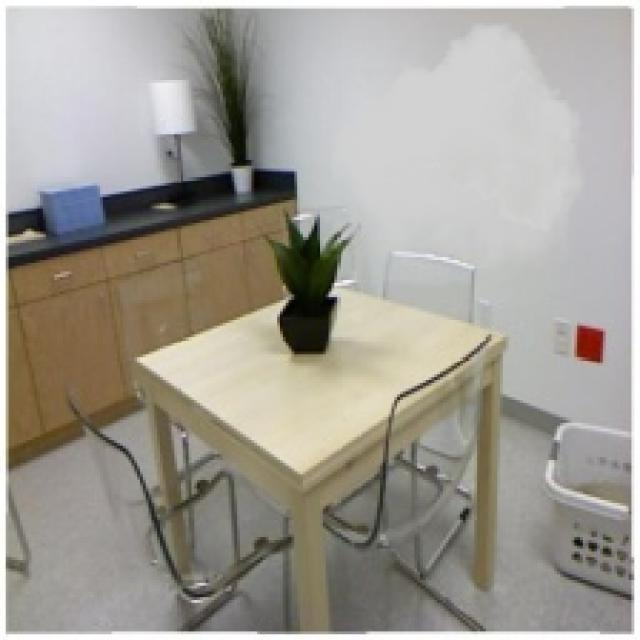Smoke: (331, 22, 586, 268)
